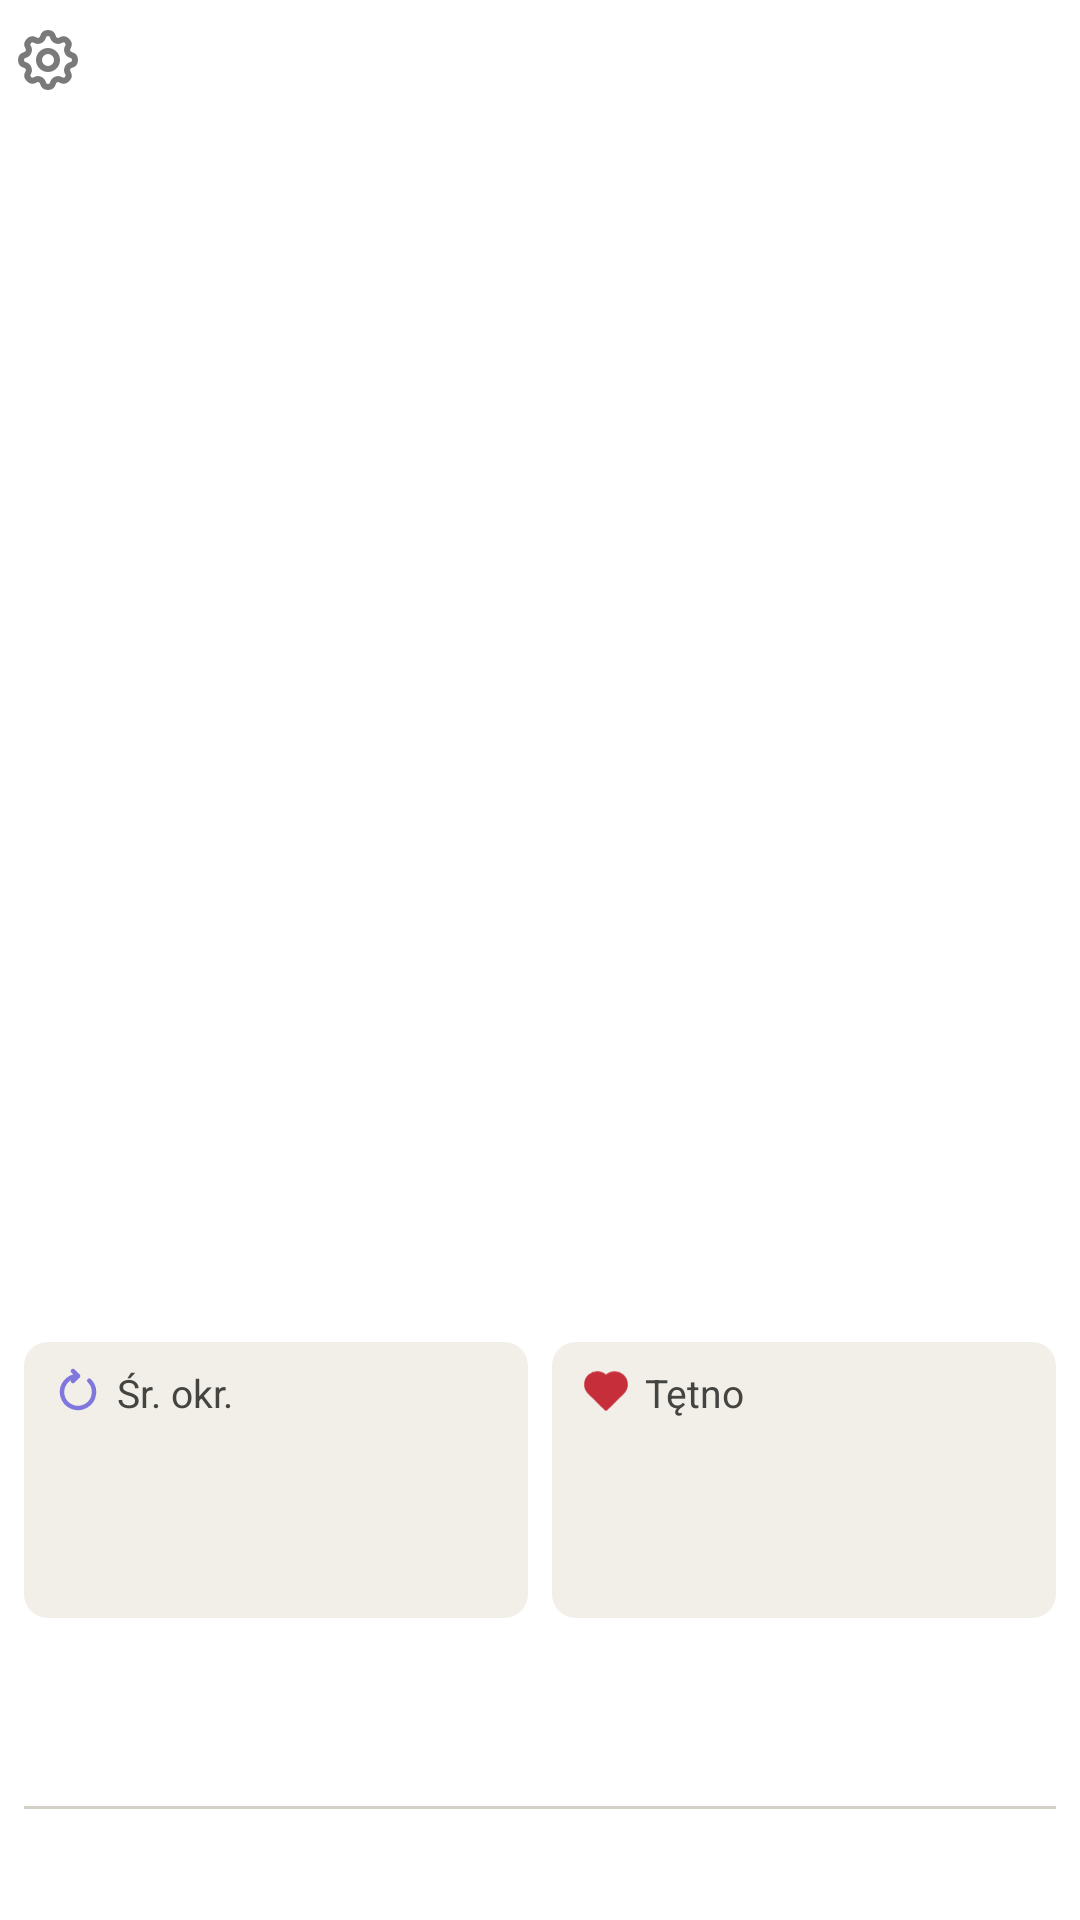

Icons on this 1080 x 1920 Android screen, each with its box as (x1, y1, x2, y2):
heart: (584, 1371, 628, 1411)
lap: (59, 1369, 97, 1411)
Treningi i ustawienia: (18, 30, 78, 90)
